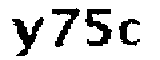5: (84, 6, 112, 52)
7: (49, 6, 82, 50)
c: (120, 16, 144, 51)
y: (8, 14, 45, 58)
